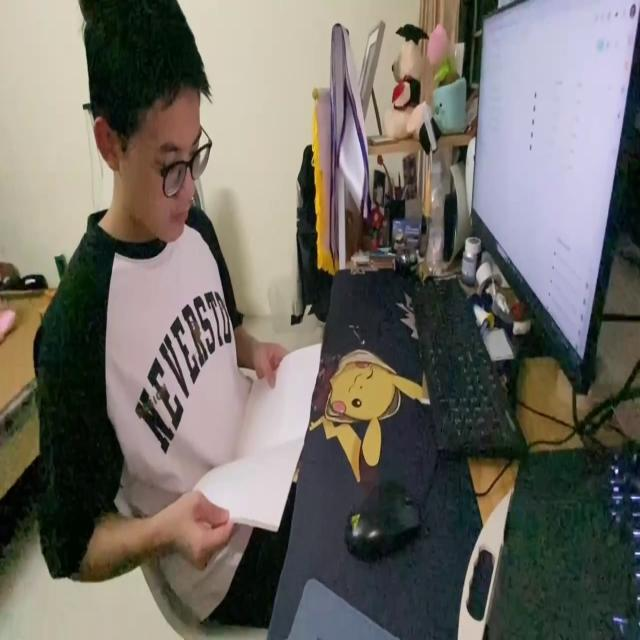book: (189, 337, 324, 536)
laptop: (462, 0, 640, 401)
student: (29, 0, 290, 619)
